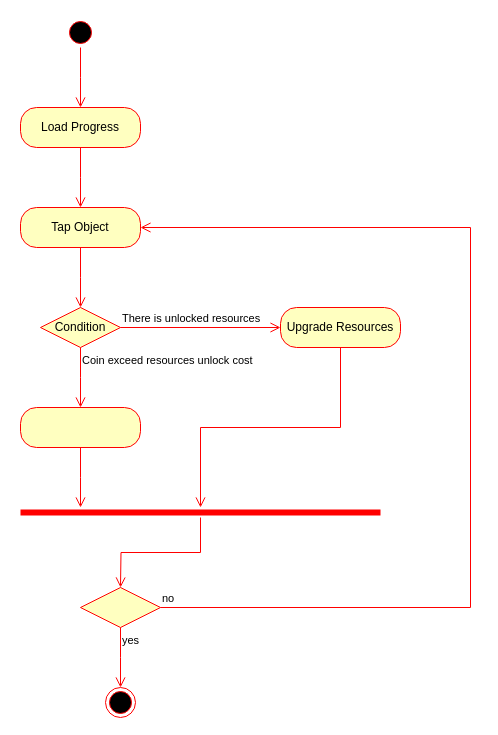
This 498x735 diagram has some shape labels left out. The shapes that lost their labels are listed below. From the top down, each one's centre as x and y in pixels, then its label:
the point at 80,427: Unlock Resources
the point at 120,607: Exit
